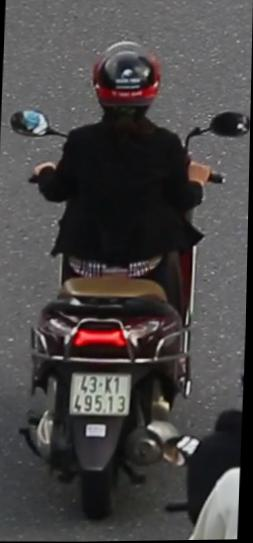LP: (64, 365, 137, 420)
helmet: (85, 35, 166, 135)
